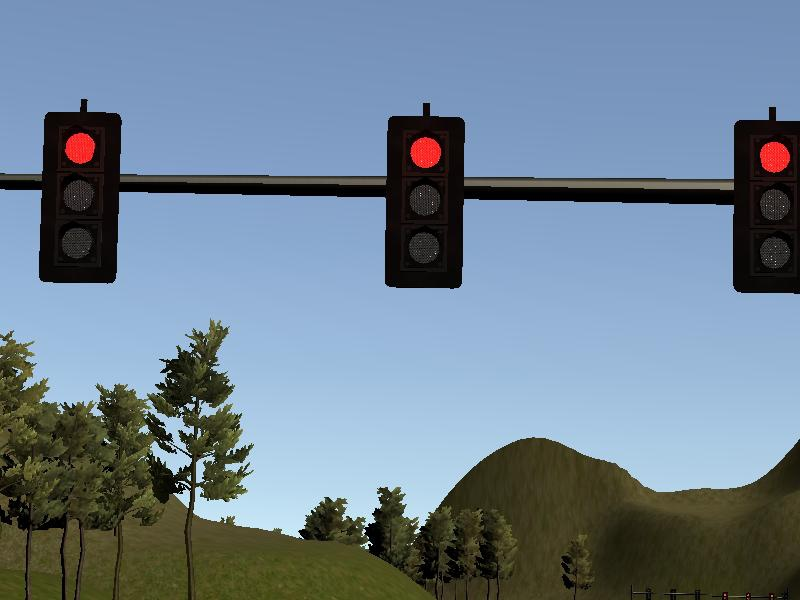red: (387, 118, 464, 289), (43, 111, 115, 285), (732, 121, 800, 293)
